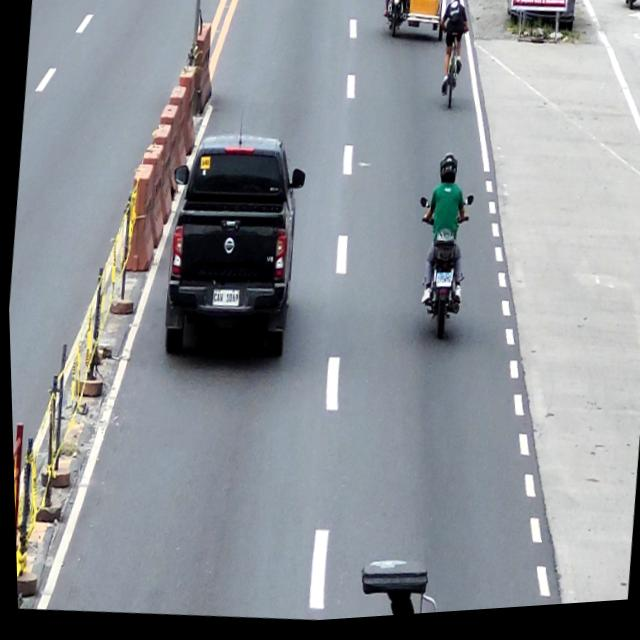Bicycle: (433, 29, 465, 117)
Car: (152, 128, 312, 374)
License-Plate: (209, 289, 238, 311), (433, 278, 450, 295)
Motorcycle: (403, 194, 477, 346)
Tricycle: (381, 0, 449, 47)
